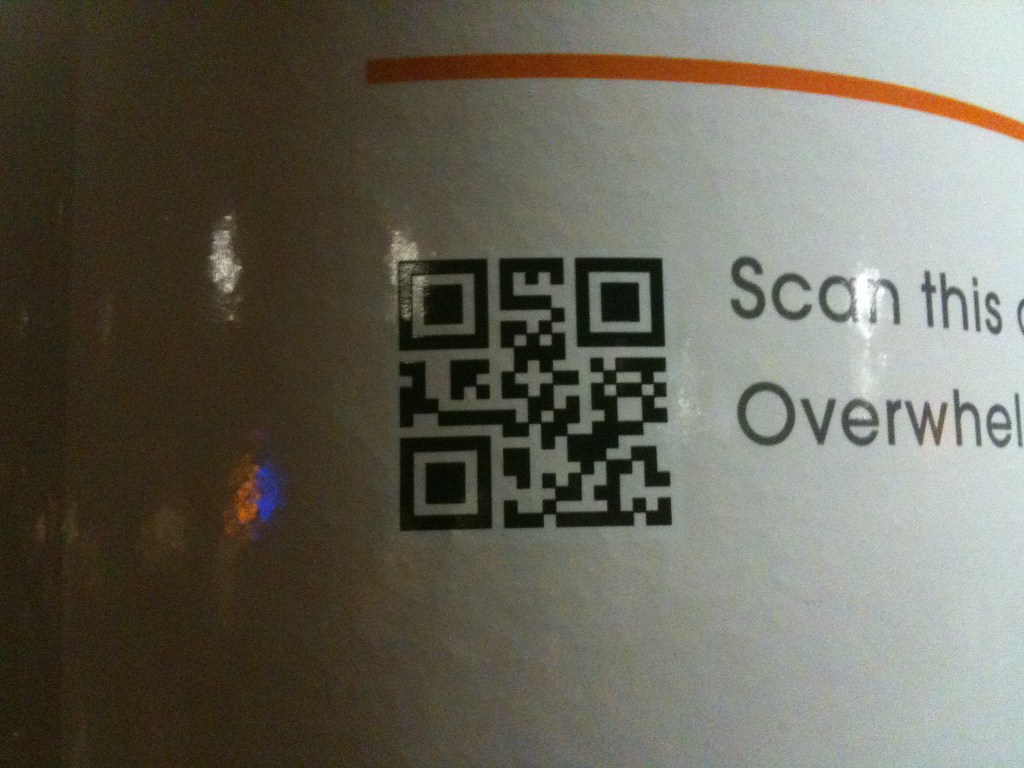QR-CODE: (397, 257, 671, 530)
